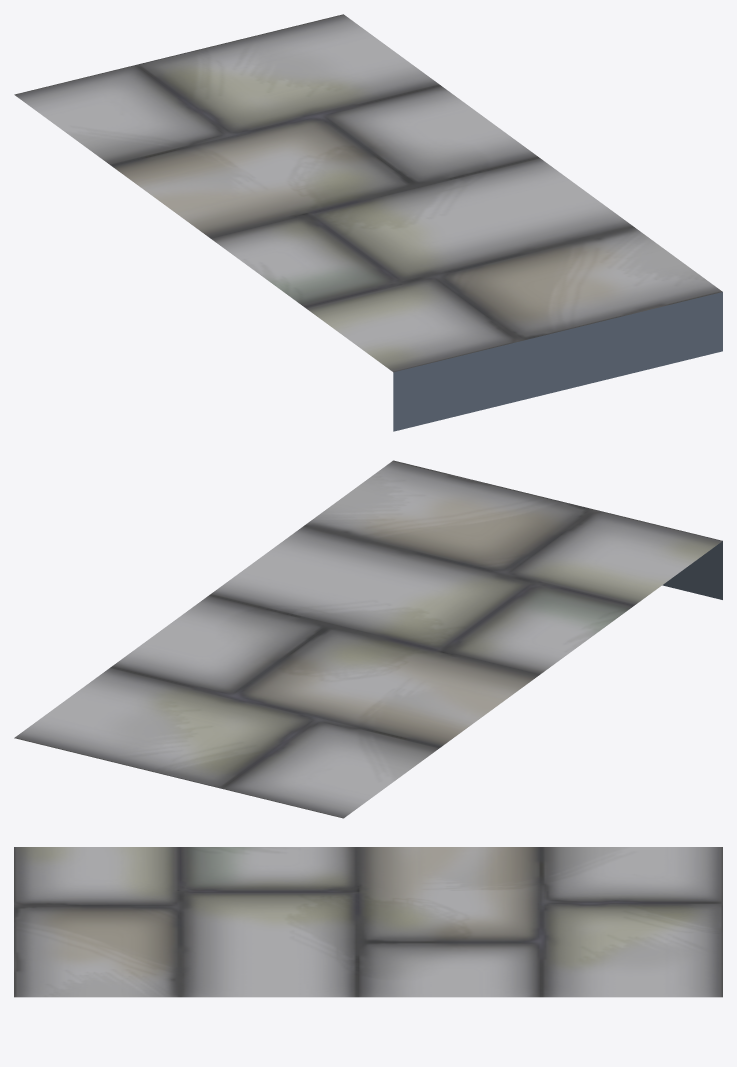
The model's file is Path_Modern_Rectangle2.fbx.
3 views of the same model, one above another, from view 1: azimuth 30°, elevation 25°; view 2: azimuth 150°, elevation 25°; view 3: azimuth 270°, elevation 25° (orthographic). The views are drawn at different scales.
Visible parts, largest first — view 1: Circle; view 2: Circle; view 3: Circle.
Part boxes in pixels (x1,y1,x2,y2): Circle: [14, 14, 722, 431]; Circle: [14, 460, 722, 818]; Circle: [14, 847, 722, 997].
Size of the model in its own units: 1.5 by 0.2586 by 2.99.
